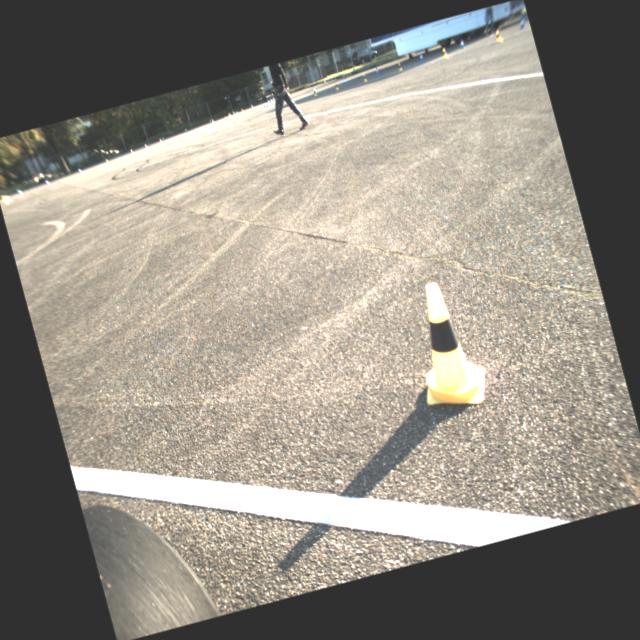blue_cone: (517, 16, 526, 28), (457, 37, 465, 49), (417, 52, 424, 62), (342, 76, 348, 85), (374, 66, 379, 74), (265, 100, 269, 108), (77, 167, 82, 173), (45, 179, 50, 185), (312, 86, 316, 92), (266, 99, 270, 104), (262, 102, 266, 106), (269, 98, 272, 103), (184, 127, 187, 132), (250, 104, 253, 108), (161, 136, 164, 140), (232, 110, 234, 114), (209, 119, 211, 122)
yellow_cone: (398, 276, 493, 416), (493, 26, 505, 44), (439, 46, 448, 60), (396, 61, 404, 72), (361, 72, 368, 82), (312, 88, 318, 96), (104, 157, 110, 164), (334, 82, 339, 90), (235, 112, 239, 119), (224, 115, 228, 122), (260, 104, 264, 110), (228, 114, 232, 120), (158, 137, 162, 143), (144, 142, 148, 148), (130, 148, 134, 154), (240, 108, 244, 112), (210, 118, 214, 122)
